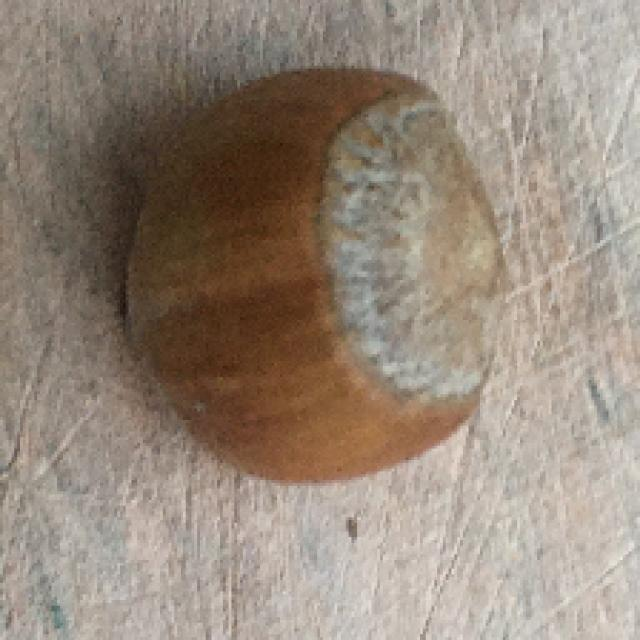DamagedHazelnut: (130, 67, 509, 481)
